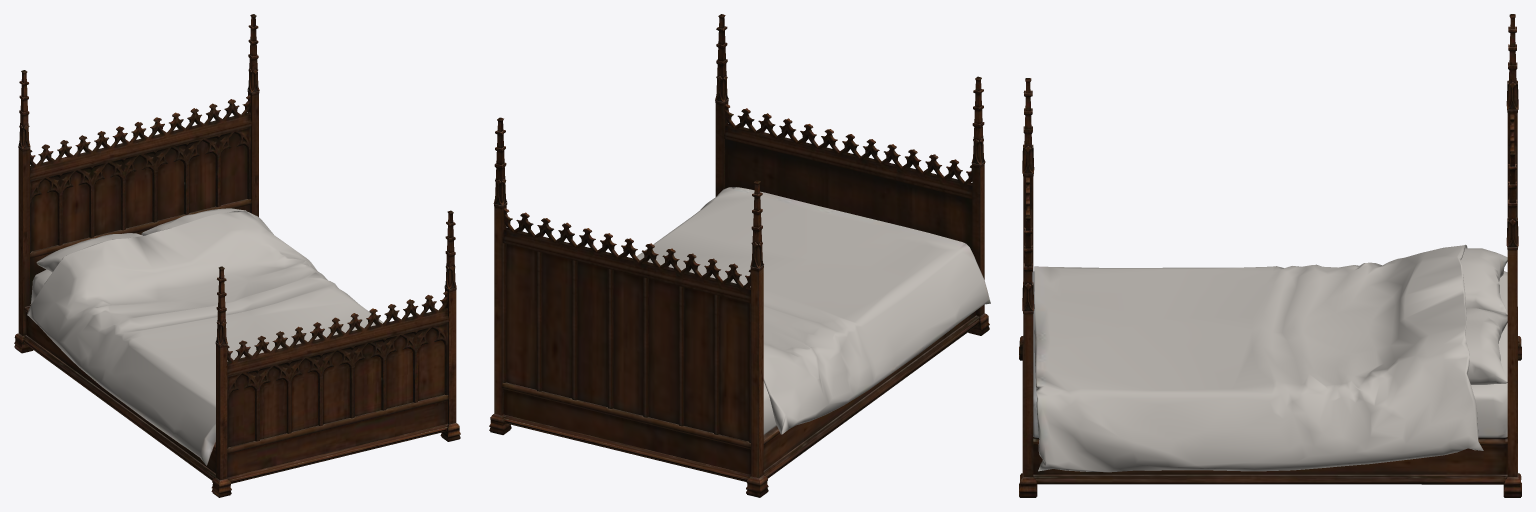
Rendered from GothicBed_01.glb.
3 views of the same model, side by side, from view 1: azimuth 30°, elevation 25°; view 2: azimuth 150°, elevation 25°; view 3: azimuth 270°, elevation 25° (orthographic). The views are drawn at different scales.
Visible parts, largest first — view 1: GothicBed_01; view 2: GothicBed_01; view 3: GothicBed_01.
Part boxes in pixels (x1,y1,x2,y2): GothicBed_01: (14,14,460,497); GothicBed_01: (489,14,990,497); GothicBed_01: (1019,14,1521,497).
Bounding box in the file's own units: 1.49 × 1.53 × 2.04.
1 material, 1 textured.
